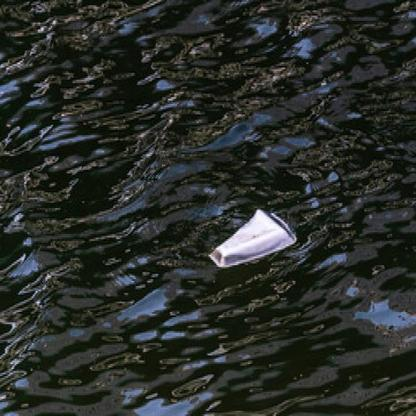foam: (209, 207, 295, 264)
